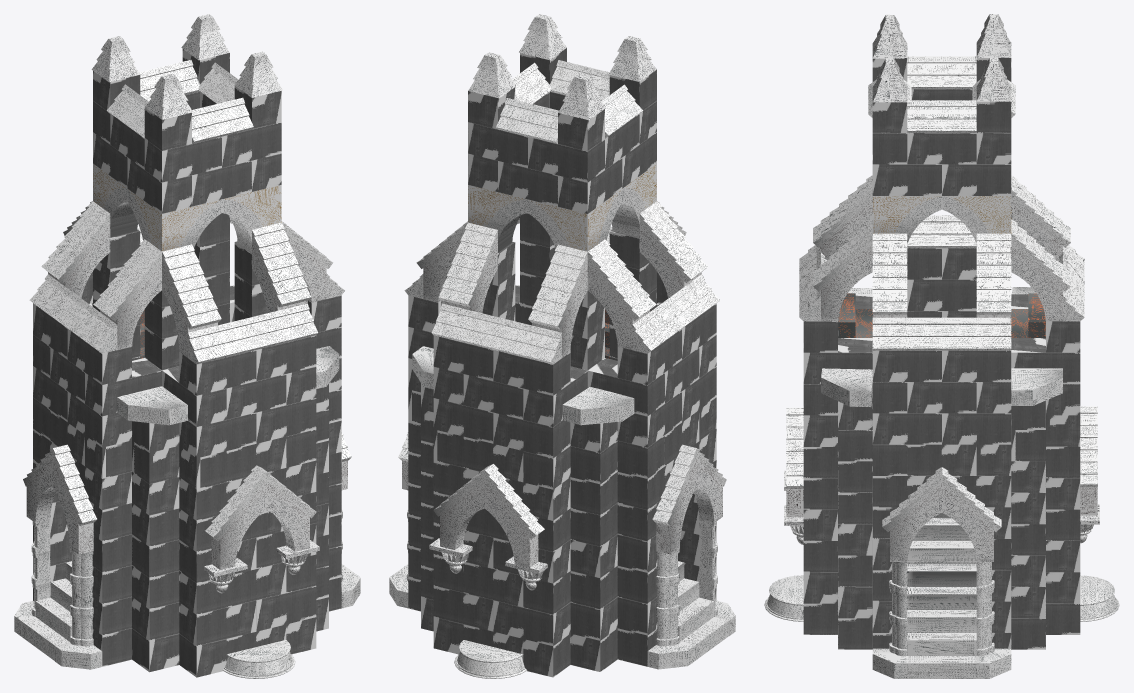
3 views of the same model, side by side, from view 1: azimuth 30°, elevation 25°; view 2: azimuth 150°, elevation 25°; view 3: azimuth 270°, elevation 25° (orthographic).
Parts seen in each view (by area): view 1: mesh220_mesh220-geometry, mesh400_mesh400-geometry, mesh154_mesh154-geometry, mesh450_mesh450-geometry, mesh186_mesh186-geometry, mesh75_mesh75-geometry, mesh174_mesh174-geometry, mesh214_mesh214-geometry, mesh312_mesh312-geometry, mesh173_mesh173-geometry, mesh152_mesh152-geometry, mesh158_mesh158-geometry (+103 smaller); view 2: mesh398_mesh398-geometry, mesh49_mesh49-geometry, mesh76_mesh76-geometry, mesh449_mesh449-geometry, mesh187_mesh187-geometry, mesh67_mesh67-geometry, mesh225_mesh225-geometry, mesh81_mesh81-geometry, mesh101_mesh101-geometry, mesh41_mesh41-geometry, mesh45_mesh45-geometry, mesh63_mesh63-geometry (+105 smaller); view 3: mesh446_mesh446-geometry, mesh111_mesh111-geometry, mesh64_mesh64-geometry, mesh190_mesh190-geometry, mesh355_mesh355-geometry, mesh451_mesh451-geometry, mesh452_mesh452-geometry, mesh448_mesh448-geometry, mesh73_mesh73-geometry, mesh162_mesh162-geometry, mesh53_mesh53-geometry, mesh45_mesh45-geometry (+98 smaller).
Boxes of the visible parts, box(x1,y1,x2,y2) form: mesh220_mesh220-geometry: box(85, 435, 226, 489); mesh400_mesh400-geometry: box(205, 465, 264, 569); mesh154_mesh154-geometry: box(127, 189, 221, 251); mesh450_mesh450-geometry: box(52, 444, 97, 554); mesh186_mesh186-geometry: box(102, 245, 161, 349); mesh75_mesh75-geometry: box(50, 207, 110, 298); mesh174_mesh174-geometry: box(179, 350, 256, 395); mesh214_mesh214-geometry: box(144, 136, 221, 182); mesh312_mesh312-geometry: box(179, 600, 256, 646); mesh173_mesh173-geometry: box(162, 248, 206, 357); mesh152_mesh152-geometry: box(179, 412, 256, 458); mesh158_mesh158-geometry: box(222, 185, 281, 252); mesh398_mesh398-geometry: box(484, 464, 544, 567); mesh49_mesh49-geometry: box(528, 189, 622, 251); mesh76_mesh76-geometry: box(587, 245, 647, 349); mesh449_mesh449-geometry: box(652, 444, 696, 554); mesh187_mesh187-geometry: box(639, 207, 699, 298); mesh67_mesh67-geometry: box(493, 350, 570, 395); mesh225_mesh225-geometry: box(493, 600, 570, 645); mesh81_mesh81-geometry: box(543, 248, 587, 357); mesh101_mesh101-geometry: box(528, 137, 604, 182); mesh41_mesh41-geometry: box(493, 412, 570, 458); mesh45_mesh45-geometry: box(468, 185, 527, 252); mesh63_mesh63-geometry: box(453, 226, 497, 312); mesh446_mesh446-geometry: box(907, 564, 976, 632); mesh111_mesh111-geometry: box(976, 415, 1080, 475); mesh64_mesh64-geometry: box(1011, 226, 1070, 321); mesh190_mesh190-geometry: box(813, 226, 872, 321); mesh355_mesh355-geometry: box(872, 476, 1011, 507); mesh451_mesh451-geometry: box(942, 467, 1001, 561); mesh452_mesh452-geometry: box(882, 467, 941, 561); mesh448_mesh448-geometry: box(907, 513, 976, 563); mesh73_mesh73-geometry: box(907, 317, 976, 350); mesh162_mesh162-geometry: box(907, 56, 976, 89); mesh53_mesh53-geometry: box(907, 100, 976, 132); mesh45_mesh45-geometry: box(942, 196, 1011, 243).
Size of the model in its own units: 0.4337 by 0.7834 by 0.4451.
